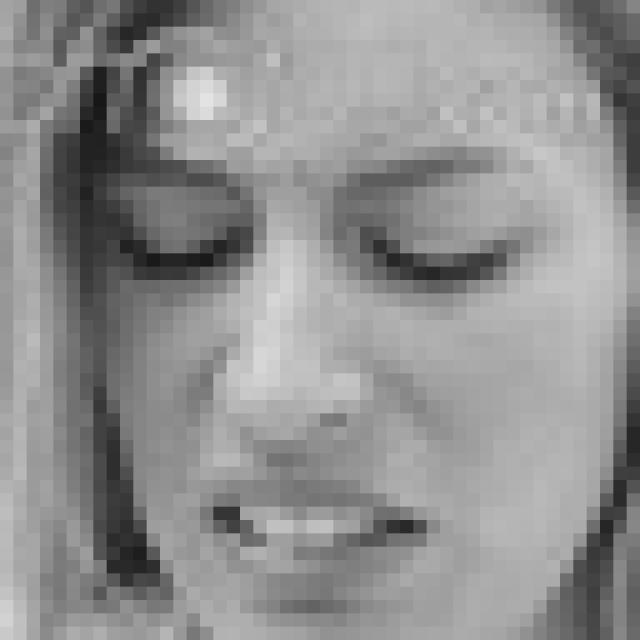disgust: (103, 147, 539, 616)
